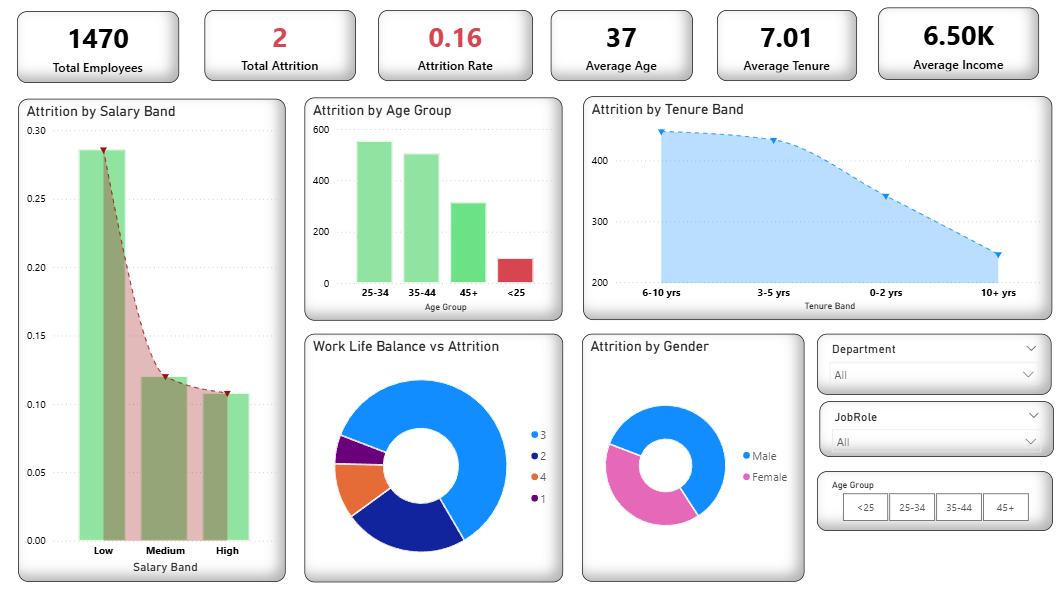

The dashboard page shown, as its layout file describes it:
{"tool":"powerbi","page":{"name":"Page 1","canvas":[1280,720],"ordinal":0},"visuals":[{"type":"card","fields":{"Values":["HR-Employee-Attrition.Total Employees"]},"box":[24.2,12.9,193.5,85.5],"z":0},{"type":"card","fields":{"Values":["Count(HR-Employee-Attrition.Attrition)"]},"box":[248.1,11.5,180.8,84.6],"z":1000},{"type":"card","fields":{"Values":["HR-Employee-Attrition.Attrition Rate"]},"box":[455.8,11.5,184.6,84.6],"z":2000},{"type":"card","fields":{"Values":["HR-Employee-Attrition.Average Age"]},"box":[661.5,11.5,169.2,84.6],"z":3000},{"type":"card","fields":{"Values":["HR-Employee-Attrition.Average Tenure"]},"box":[859.6,11.5,167.3,84.6],"z":4000},{"type":"card","fields":{"Values":["HR-Employee-Attrition.Average Income"]},"box":[1051.9,9.6,192.3,86.5],"z":5000},{"type":"clusteredColumnChart","title":"Attrition by Age Group","fields":{"Category":["HR-Employee-Attrition.Age Group"],"Y":["CountNonNull(HR-Employee-Attrition.Attrition)"]},"box":[366.7,115.7,307.8,266.7],"z":6000},{"type":"lineClusteredColumnComboChart","title":"Attrition by Salary Band","fields":{"Category":["HR-Employee-Attrition.Salary Band"],"Y":["HR-Employee-Attrition.Attrition Rate"],"Y2":["HR-Employee-Attrition.Attrition Rate"]},"box":[25,117.3,319.2,576.9],"z":7000},{"type":"lineChart","title":"Attrition by Tenure Band","fields":{"Category":["HR-Employee-Attrition.Tenure Band"],"Y":["CountNonNull(HR-Employee-Attrition.Attrition)"]},"box":[700,115.4,559.6,267.3],"z":8000},{"type":"donutChart","title":"Work Life Balance vs Attrition","fields":{"Category":["HR-Employee-Attrition.WorkLifeBalance"],"Y":["CountNonNull(HR-Employee-Attrition.Attrition)"]},"box":[366.7,398.6,308.7,297.1],"z":9000},{"type":"pieChart","title":"Attrition by Gender","fields":{"Category":["HR-Employee-Attrition.Gender"],"Y":["CountNonNull(HR-Employee-Attrition.EmployeeNumber)"]},"box":[698.1,398.1,265.4,296.2],"z":10000},{"type":"slicer","fields":{"Values":["HR-Employee-Attrition.Department"]},"box":[979.7,398.3,279.7,72.9],"z":11000},{"type":"slicer","fields":{"Values":["HR-Employee-Attrition.JobRole"]},"box":[981.4,479.7,279.7,66.1],"z":12000},{"type":"slicer","fields":{"Values":["HR-Employee-Attrition.Age Group"]},"box":[979.7,562.7,279.7,130.5],"z":13000}]}

Visuals, with their boxes in screenshot pixels (x1, y1, x2, y2), scaled from the page's 1280x720 canvas onto the 1062x600 screenshot:
card - HR-Employee-Attrition.Total Employees: <box>20,11,181,82</box>
card - Count(HR-Employee-Attrition.Attrition): <box>206,10,356,80</box>
card - HR-Employee-Attrition.Attrition Rate: <box>378,10,531,80</box>
card - HR-Employee-Attrition.Average Age: <box>549,10,689,80</box>
card - HR-Employee-Attrition.Average Tenure: <box>713,10,852,80</box>
card - HR-Employee-Attrition.Average Income: <box>873,8,1032,80</box>
"Attrition by Age Group" clusteredColumnChart: <box>304,96,560,319</box>
"Attrition by Salary Band" lineClusteredColumnComboChart: <box>21,98,286,578</box>
"Attrition by Tenure Band" lineChart: <box>581,96,1045,319</box>
"Work Life Balance vs Attrition" donutChart: <box>304,332,560,580</box>
"Attrition by Gender" pieChart: <box>579,332,799,579</box>
slicer - HR-Employee-Attrition.Department: <box>813,332,1045,393</box>
slicer - HR-Employee-Attrition.JobRole: <box>814,400,1046,455</box>
slicer - HR-Employee-Attrition.Age Group: <box>813,469,1045,578</box>
